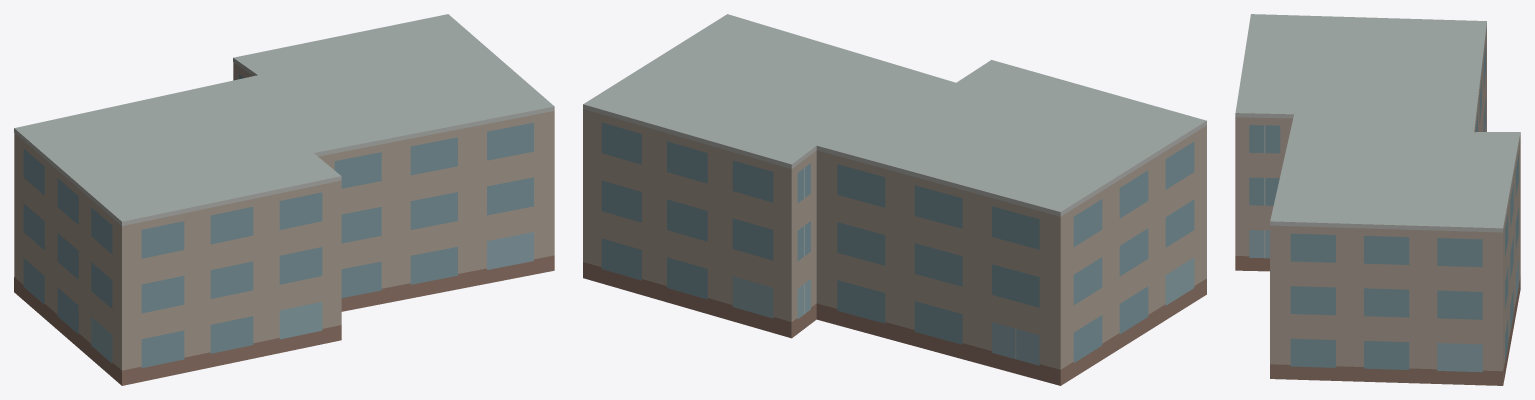
Rendered from survey-upis-32634502.glb.
The picture shows the model from 3 angles, left to right: view 1: azimuth 30°, elevation 25°; view 2: azimuth 150°, elevation 25°; view 3: azimuth 270°, elevation 25°; orthographic projection. The views are drawn at different scales.
Parts seen in each view (by area): view 1: survey-upis-32634502.tmp; view 2: survey-upis-32634502.tmp; view 3: survey-upis-32634502.tmp.
Part boxes in pixels (x1,y1,x2,y2): survey-upis-32634502.tmp: (14, 14, 554, 385); survey-upis-32634502.tmp: (583, 14, 1206, 385); survey-upis-32634502.tmp: (1235, 14, 1520, 385).
Size of the model in its own units: 26.71 by 9.15 by 15.02.
